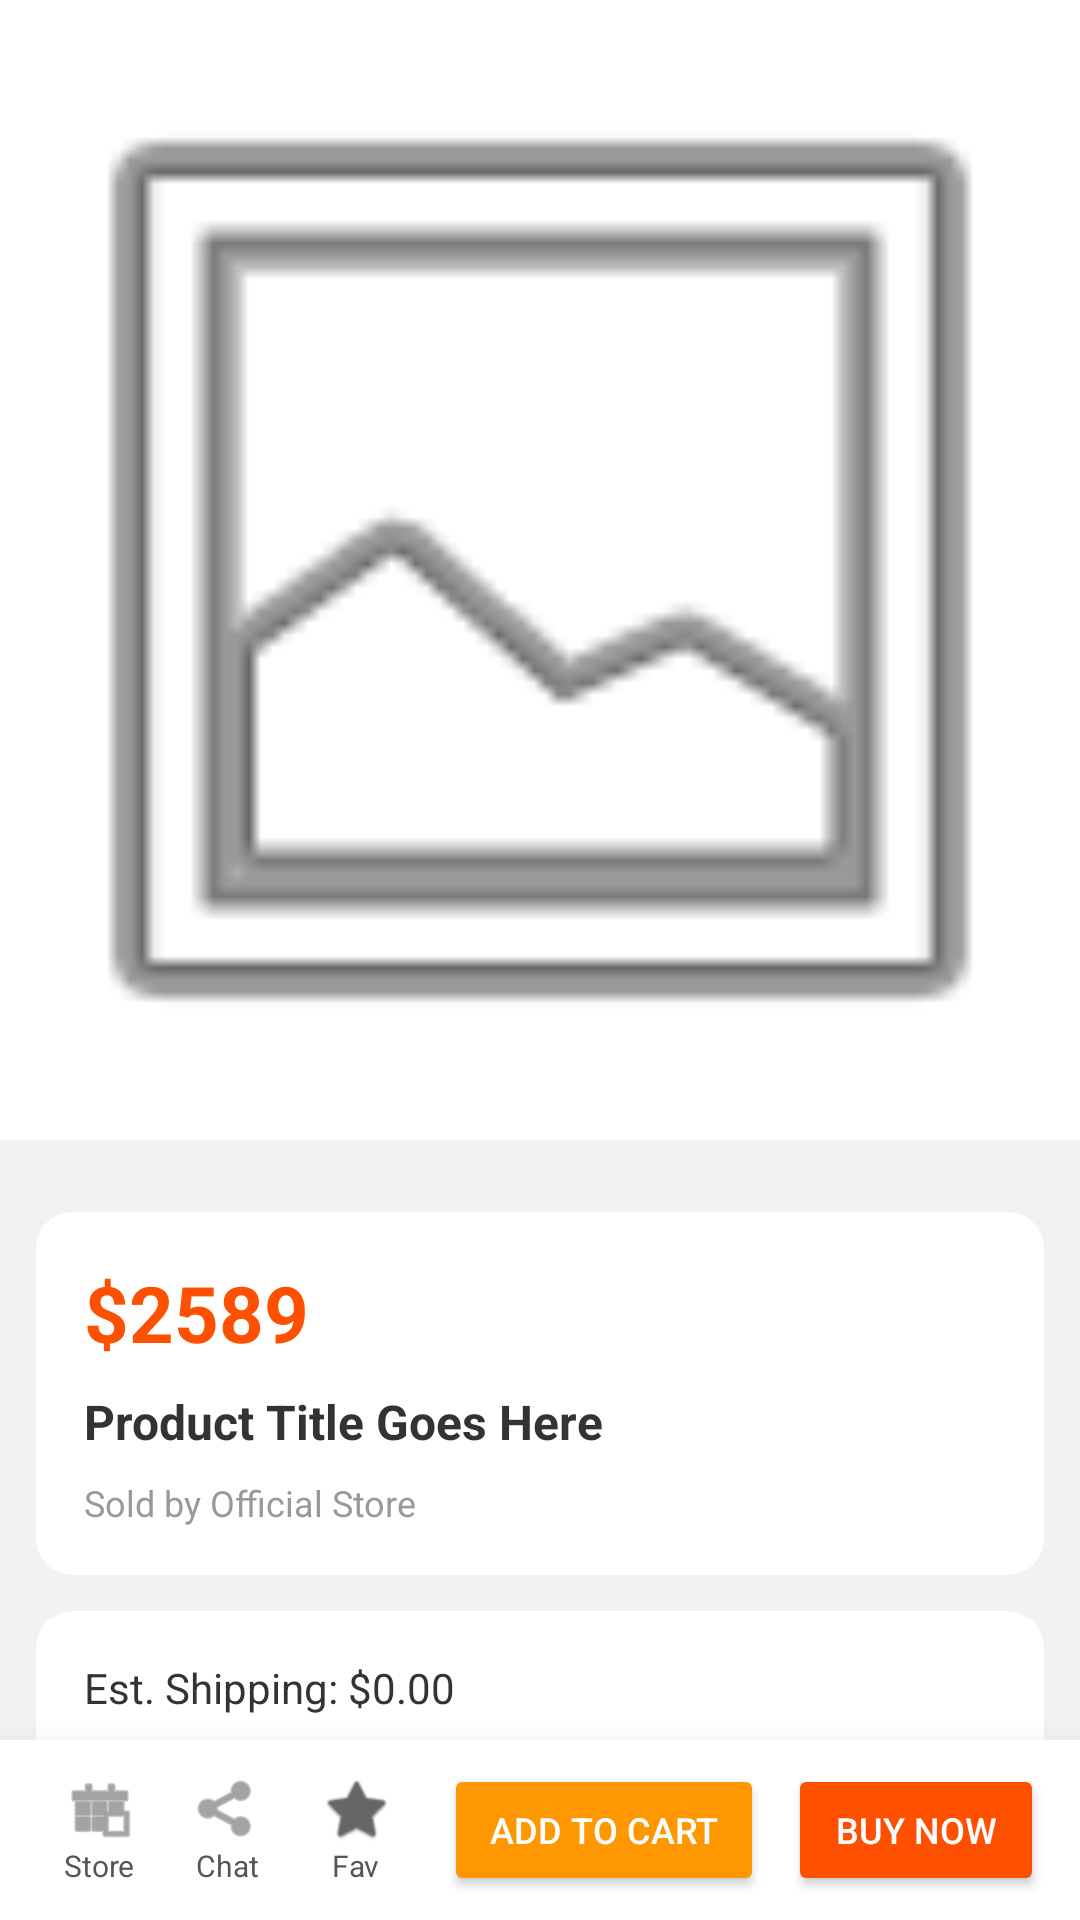

Point at icon controls on the screen. Image size 1080w x 1920h, points as (x,y).
share: (224,1809)
star: (357,1809)
today: (100,1810)
